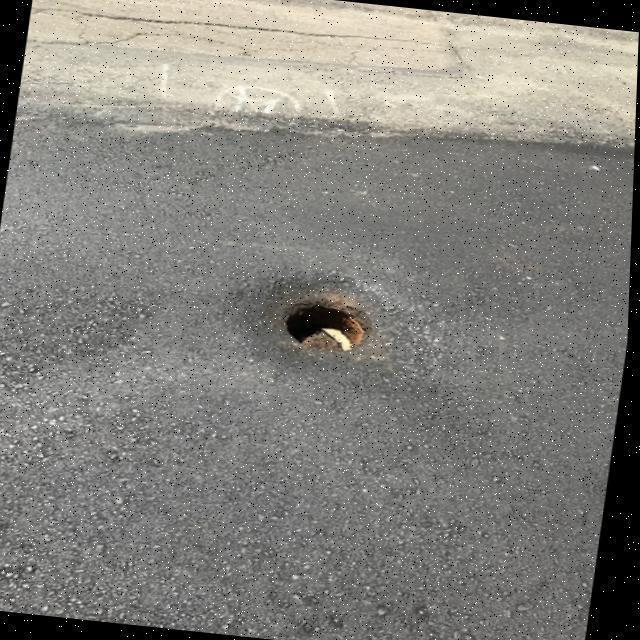Pothole: (284, 299, 372, 353)
